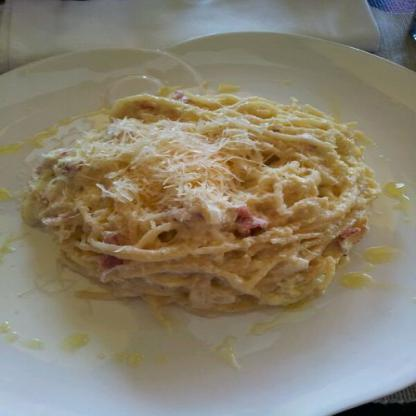pasta: (32, 87, 375, 309)
